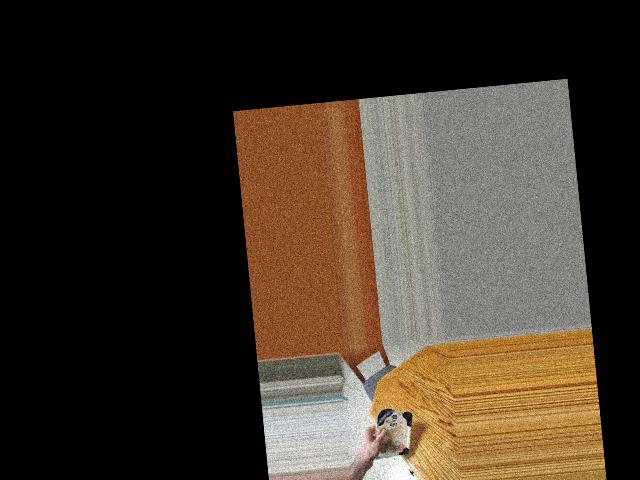cheese: (367, 405, 416, 461)
